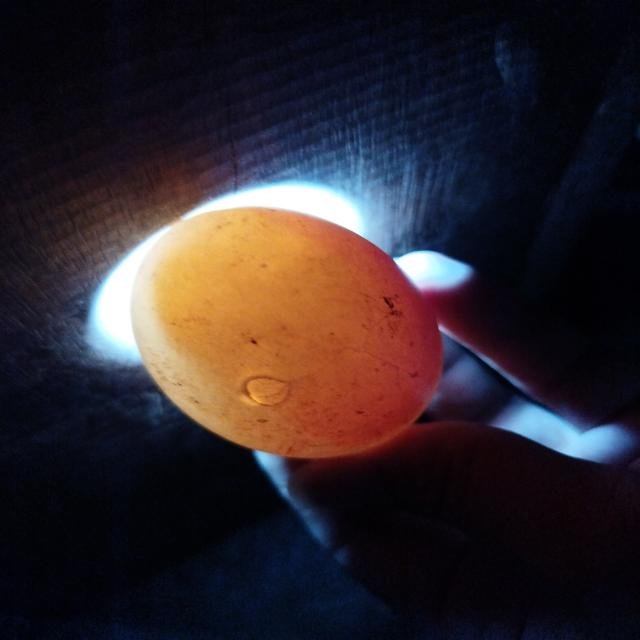Rachadura: (247, 378, 289, 405)
